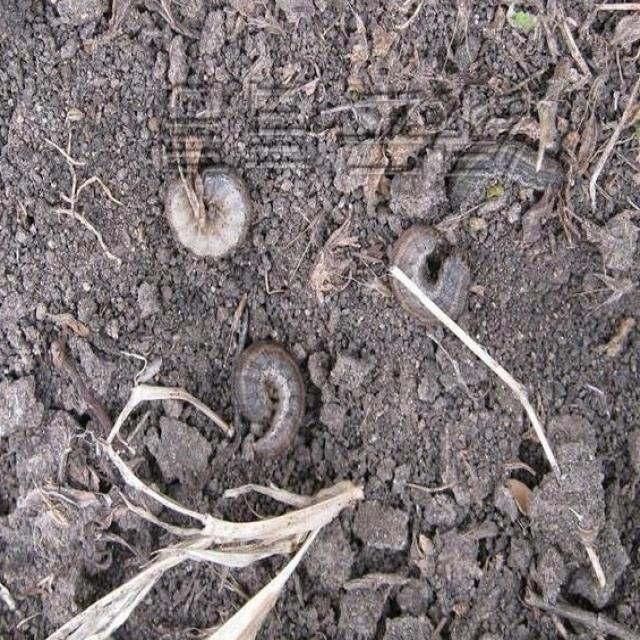black cutworm: (146, 164, 255, 266), (379, 224, 473, 331), (231, 334, 306, 456), (435, 148, 572, 200)
